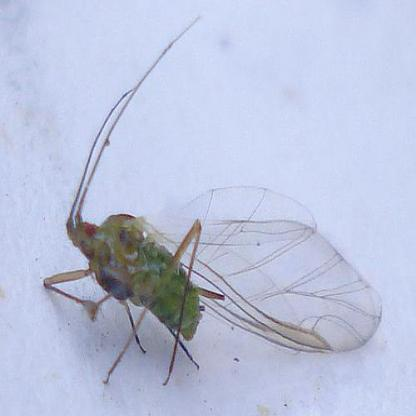aphid: (39, 90, 387, 375)
